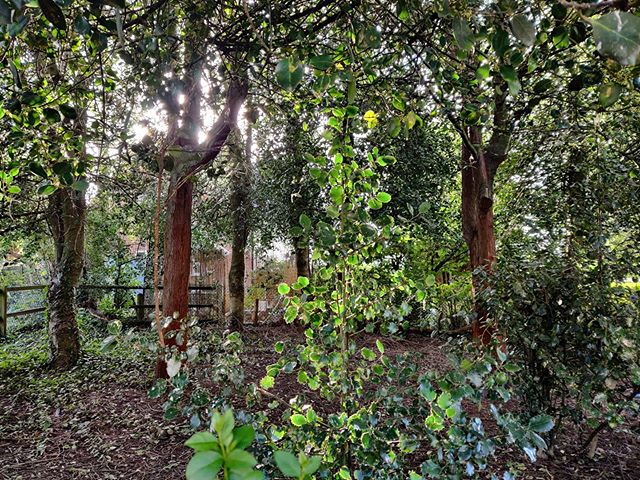vegetation: (1, 1, 628, 473)
